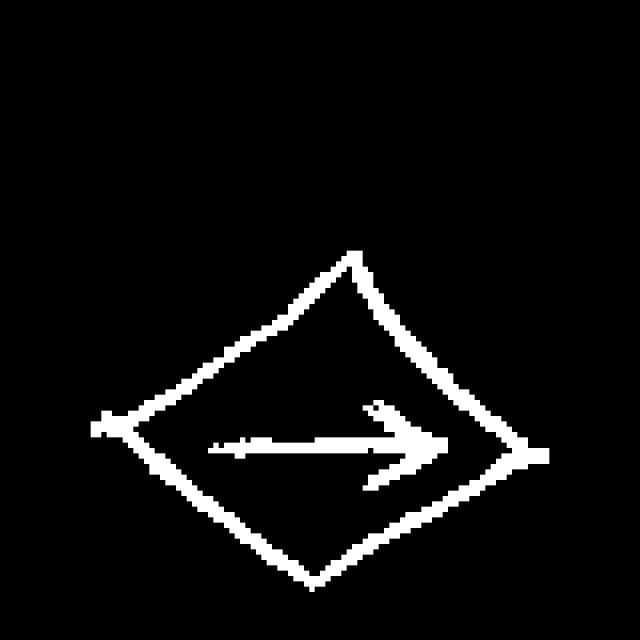dependant_current: (99, 244, 536, 611)
